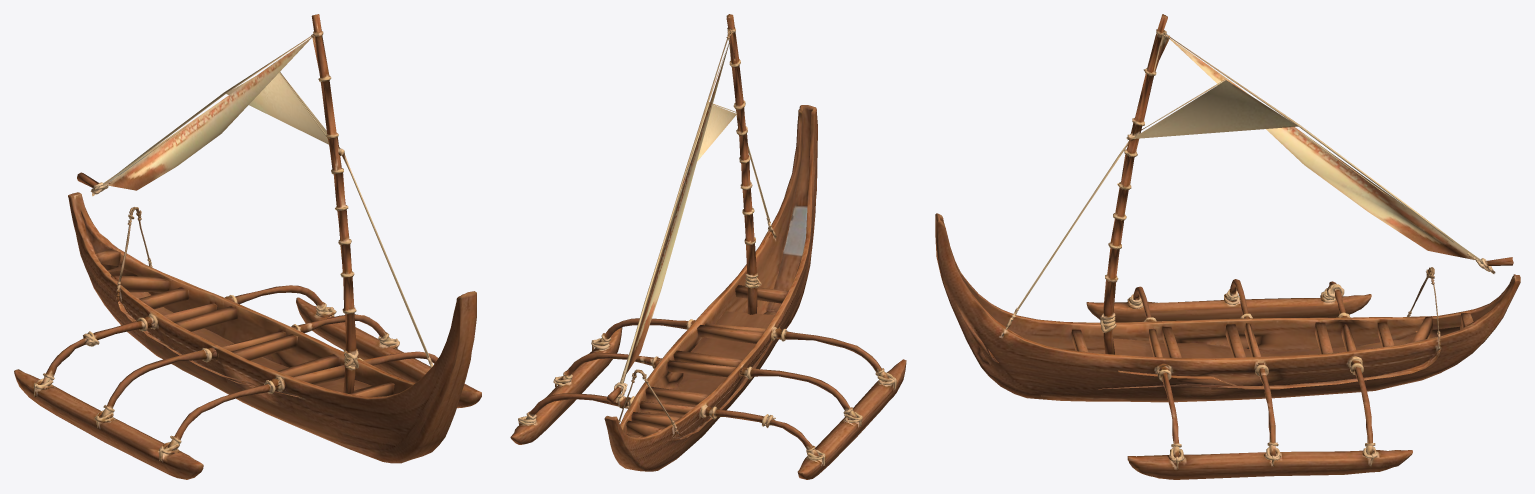
Rendered from canoe-closed.glb.
3 views of the same model, side by side, from view 1: azimuth 30°, elevation 25°; view 2: azimuth 150°, elevation 25°; view 3: azimuth 270°, elevation 25° (orthographic). The views are drawn at different scales.
Parts seen in each view (by area): view 1: tripo_node_a48b2b37-3a1b-48c2-86d5-eb920f993bca; view 2: tripo_node_a48b2b37-3a1b-48c2-86d5-eb920f993bca; view 3: tripo_node_a48b2b37-3a1b-48c2-86d5-eb920f993bca.
Part boxes in pixels (left/top/right/bottom): tripo_node_a48b2b37-3a1b-48c2-86d5-eb920f993bca: left=14, top=14, right=481, bottom=479; tripo_node_a48b2b37-3a1b-48c2-86d5-eb920f993bca: left=510, top=14, right=906, bottom=479; tripo_node_a48b2b37-3a1b-48c2-86d5-eb920f993bca: left=935, top=14, right=1520, bottom=479.
Size of the model in its own units: 0.6387 by 0.7598 by 0.998.
1 material, 1 textured.
